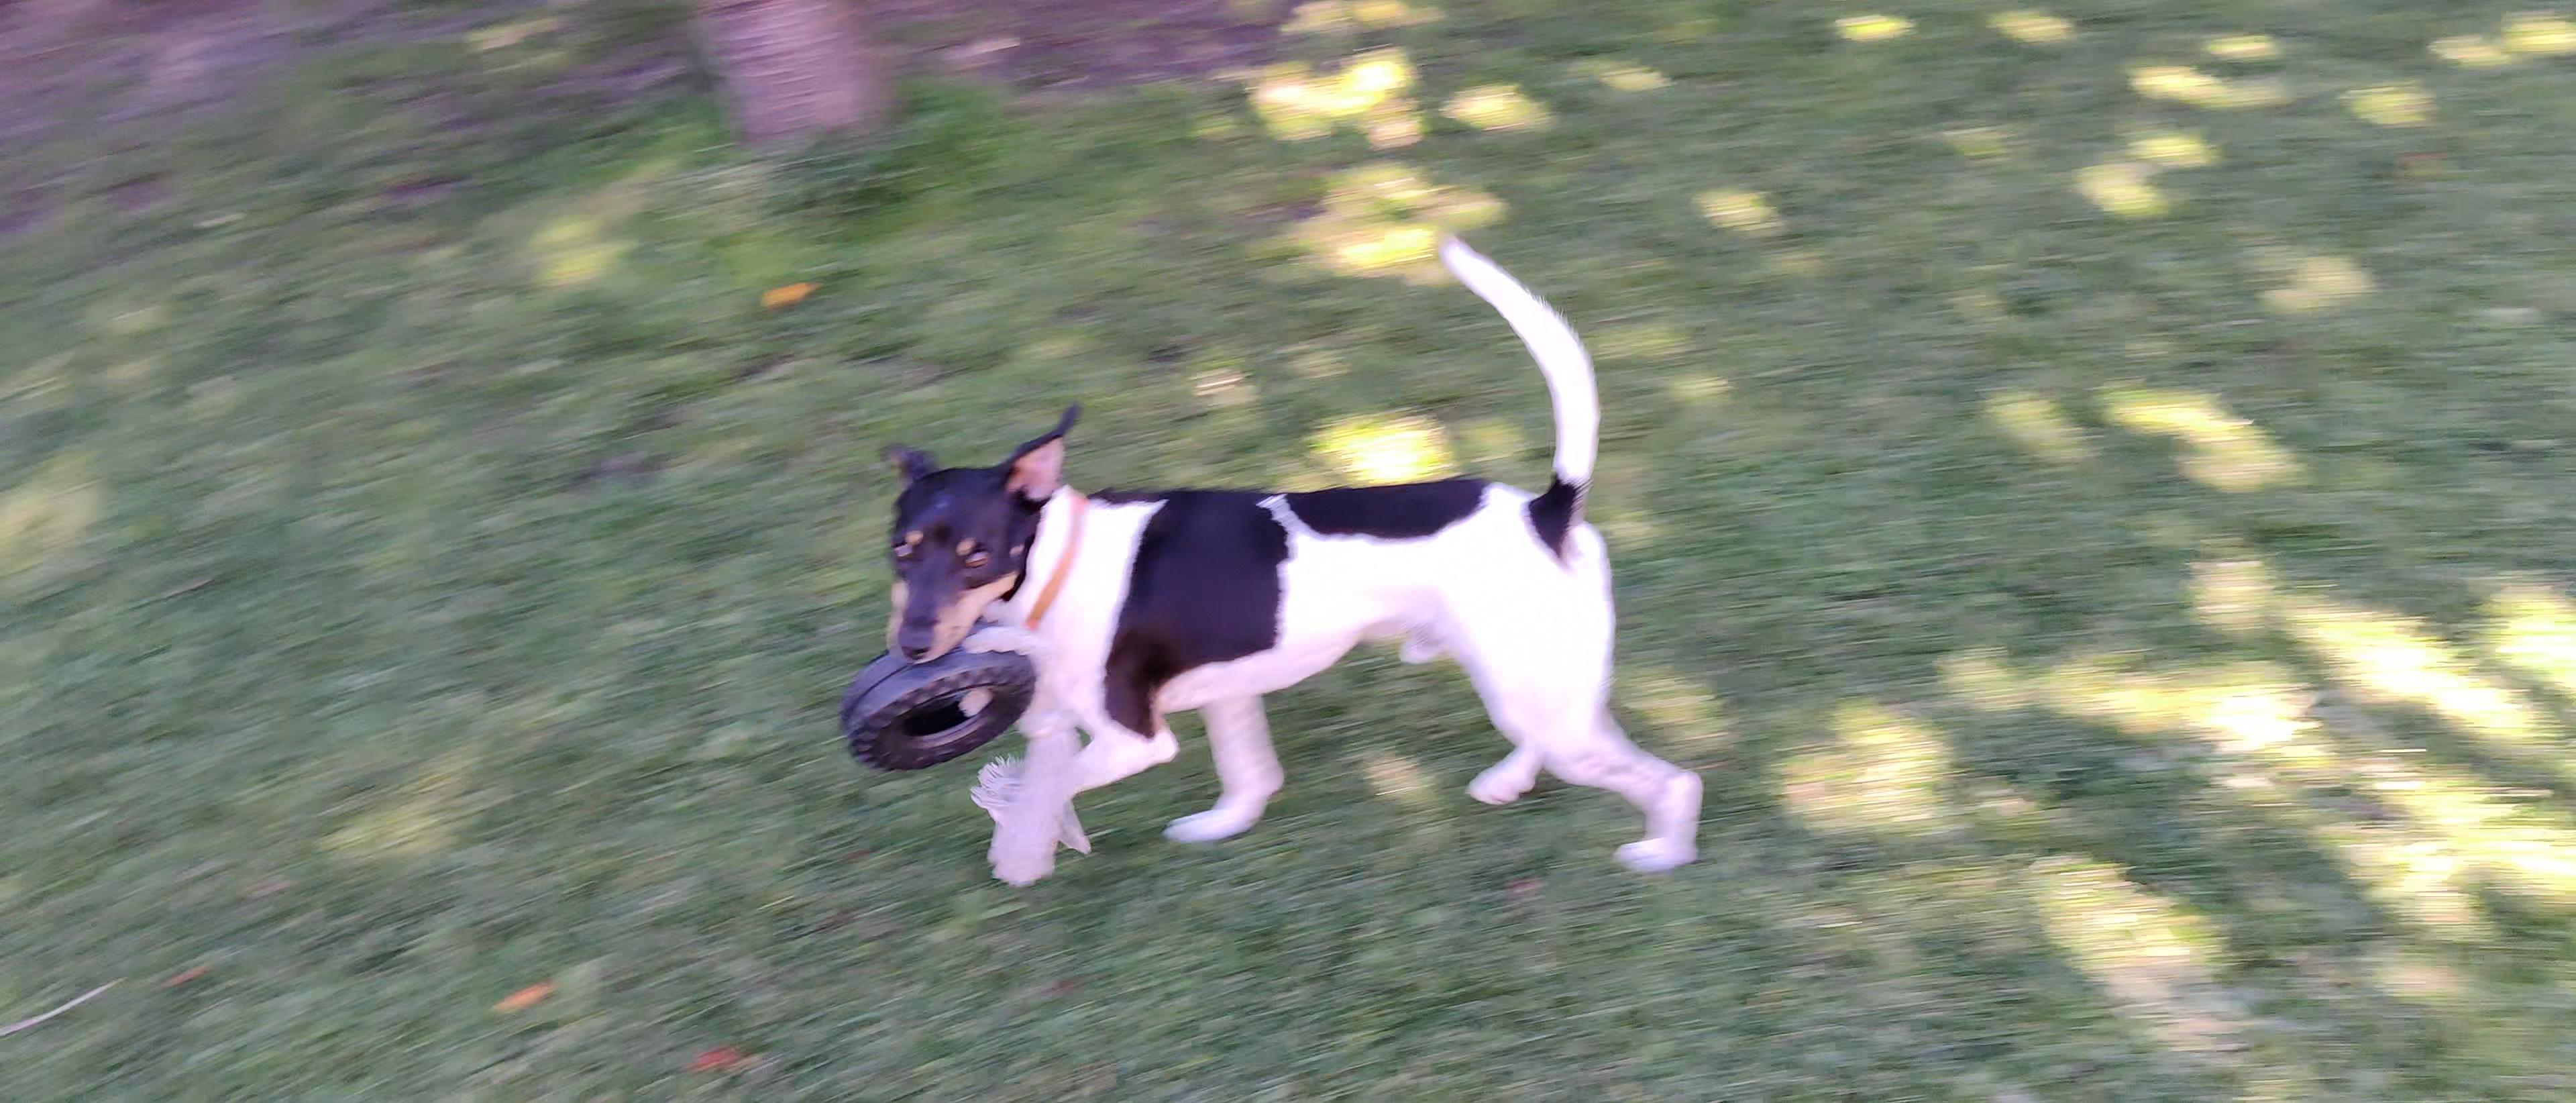Dog: (836, 215, 1735, 909)
